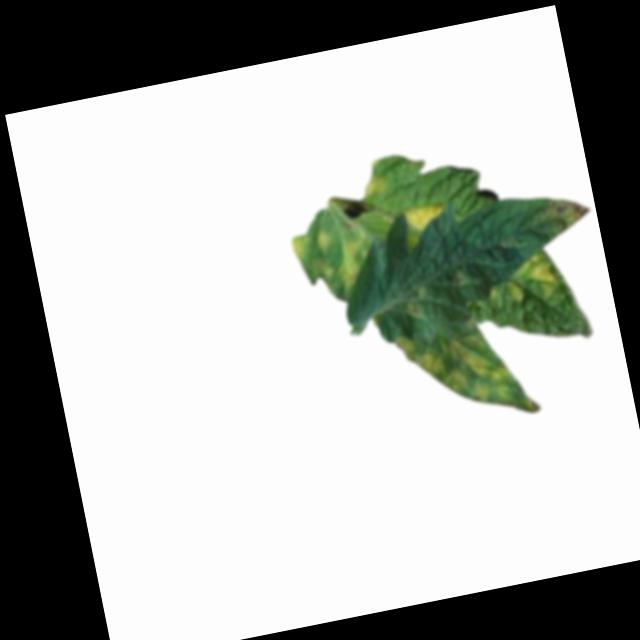Leaf_Mold: (391, 312, 540, 443), (314, 223, 374, 293), (538, 191, 594, 235), (397, 199, 449, 236), (520, 253, 556, 301), (361, 174, 389, 202), (290, 233, 310, 268)
